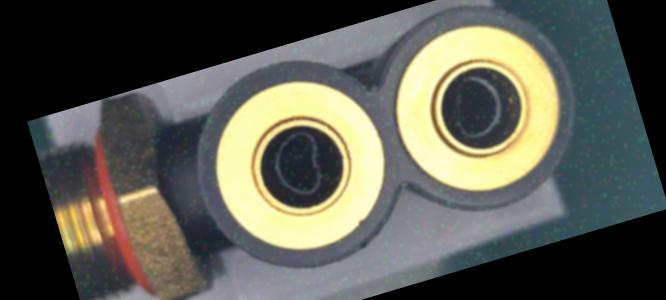off-centered: (436, 64, 515, 154), (260, 122, 338, 208)
